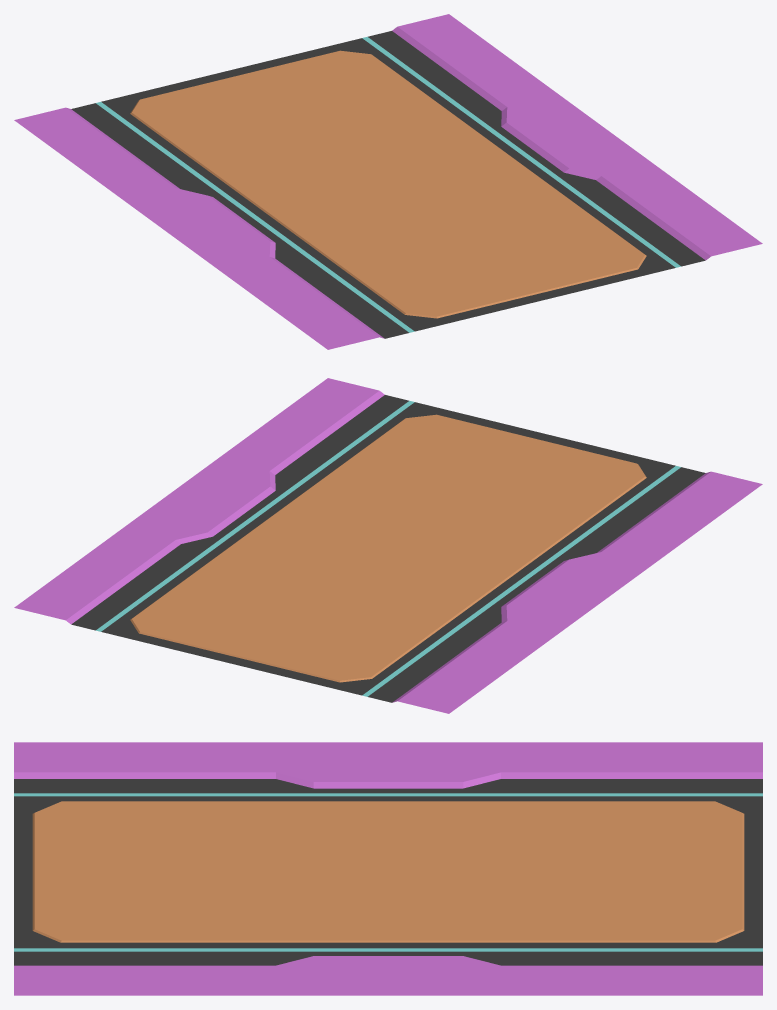
The model's file is HallFloor.fbx.
3 renders of one model, top to bottom at view 1: azimuth 30°, elevation 25°; view 2: azimuth 150°, elevation 25°; view 3: azimuth 270°, elevation 25°, orthographic. The views are drawn at different scales.
Visible parts, largest first — view 1: HallFloor; view 2: HallFloor; view 3: HallFloor.
Part boxes in pixels (x1,y1,x2,y2): HallFloor: [14, 14, 762, 349]; HallFloor: [14, 378, 762, 713]; HallFloor: [14, 742, 762, 995].
Size of the model in its own units: 8 by 0.05 by 10.
